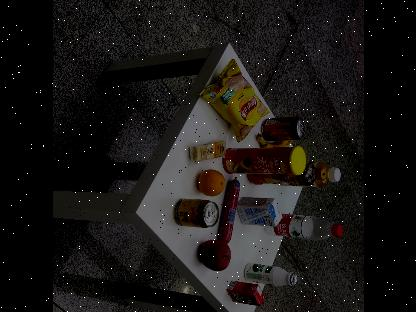Can: (172, 200, 220, 228), (262, 118, 304, 140)
Others: (223, 144, 306, 176), (235, 194, 285, 229), (226, 277, 266, 309)
Plastic Bottle: (264, 210, 343, 244)
